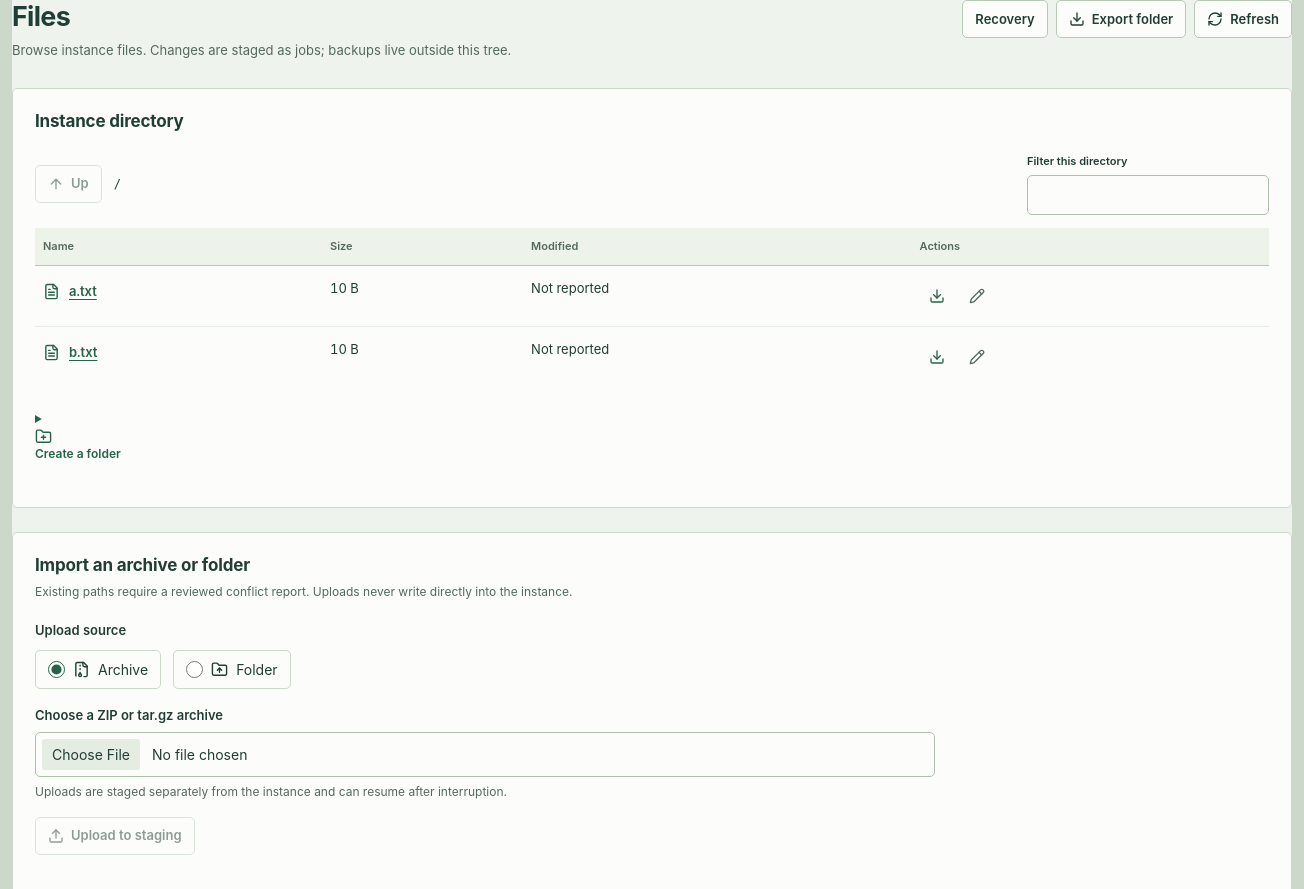
it: file safety › does not let a late file preview replace a newer selected file
What coordinates should you click on to do the following:
click the button "a.txt"
I would click on:
 (70, 291)
Its box is x1=43 y1=279 x2=97 y2=304.
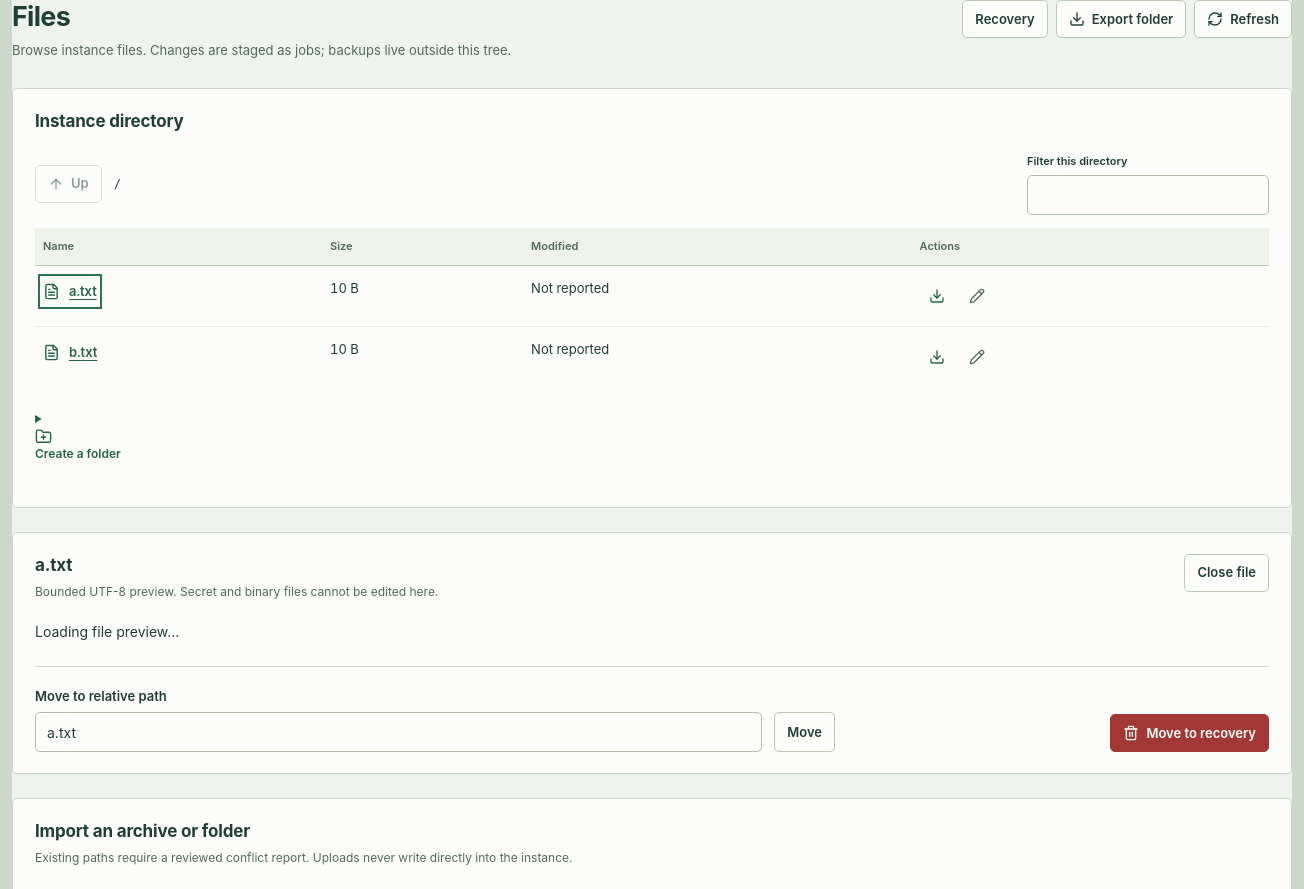
What coordinates should you click on to do the following:
click the button "b.txt"
I would click on:
 (70, 352)
Its box is x1=43 y1=340 x2=97 y2=365.
(page scrolled)
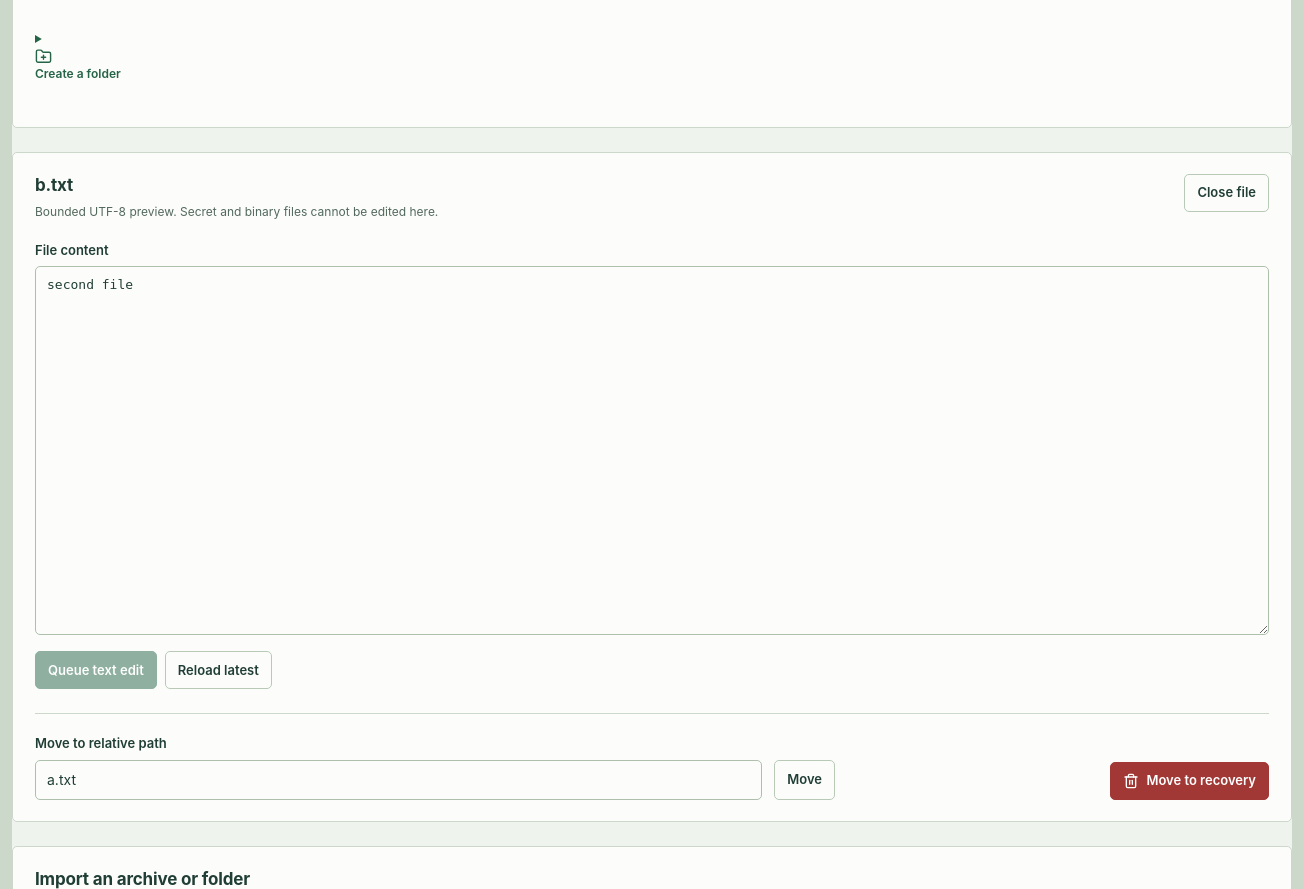
Now the text box labelled "File content" holds "second file", box x1=35 y1=266 x2=1269 y2=635
